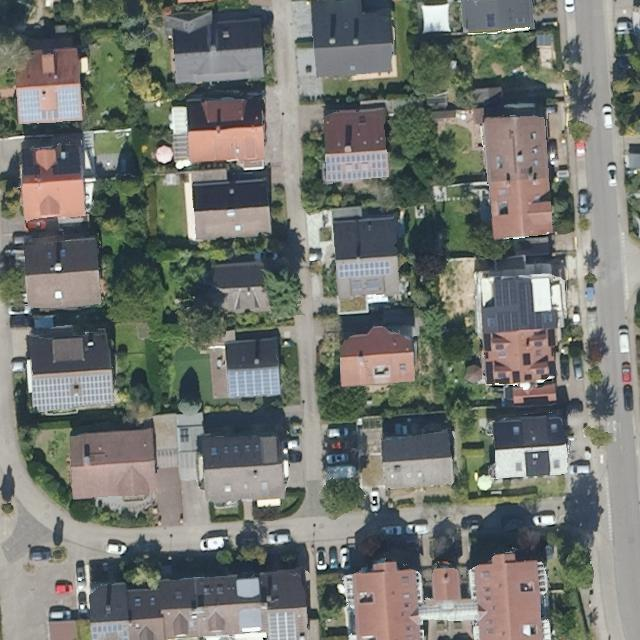PV: (31, 371, 117, 413), (492, 277, 544, 333), (13, 85, 83, 124), (321, 149, 391, 182), (227, 363, 283, 400), (335, 257, 393, 281), (267, 608, 297, 639), (90, 620, 133, 639)
